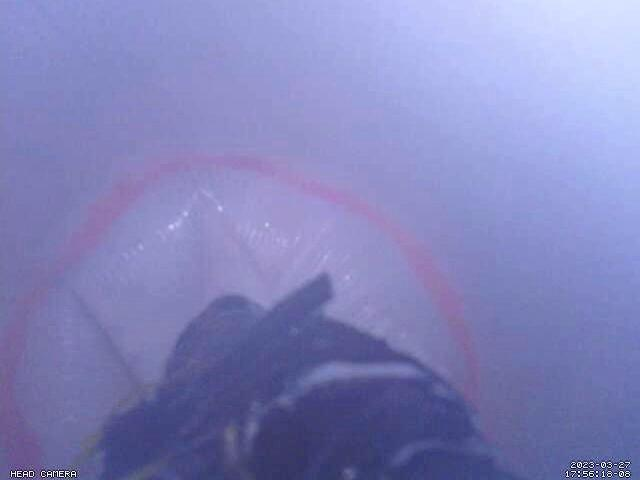head: (1, 151, 495, 480)
